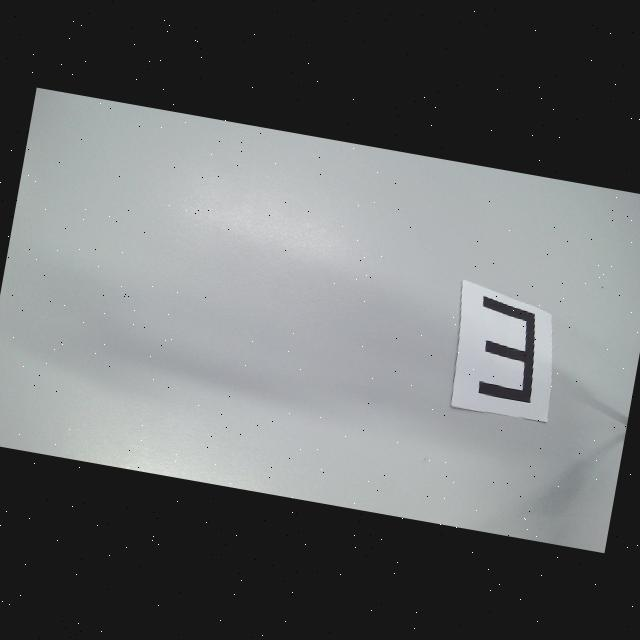FAKE: (466, 294, 548, 404)
